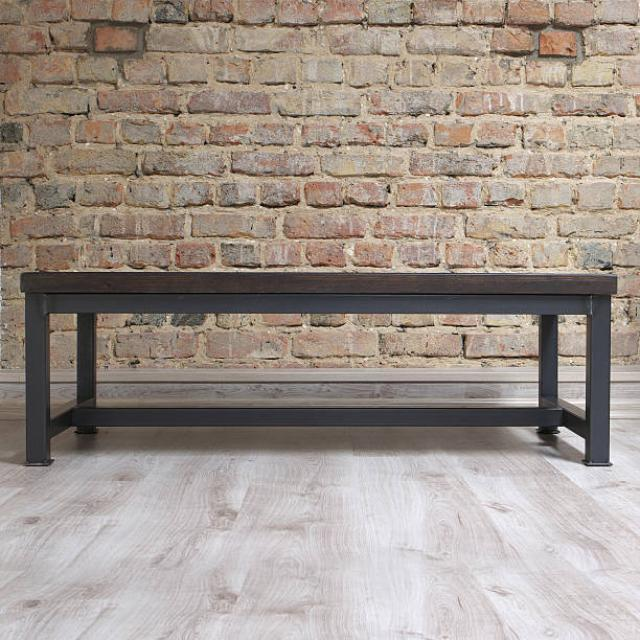table: (19, 268, 617, 468)
